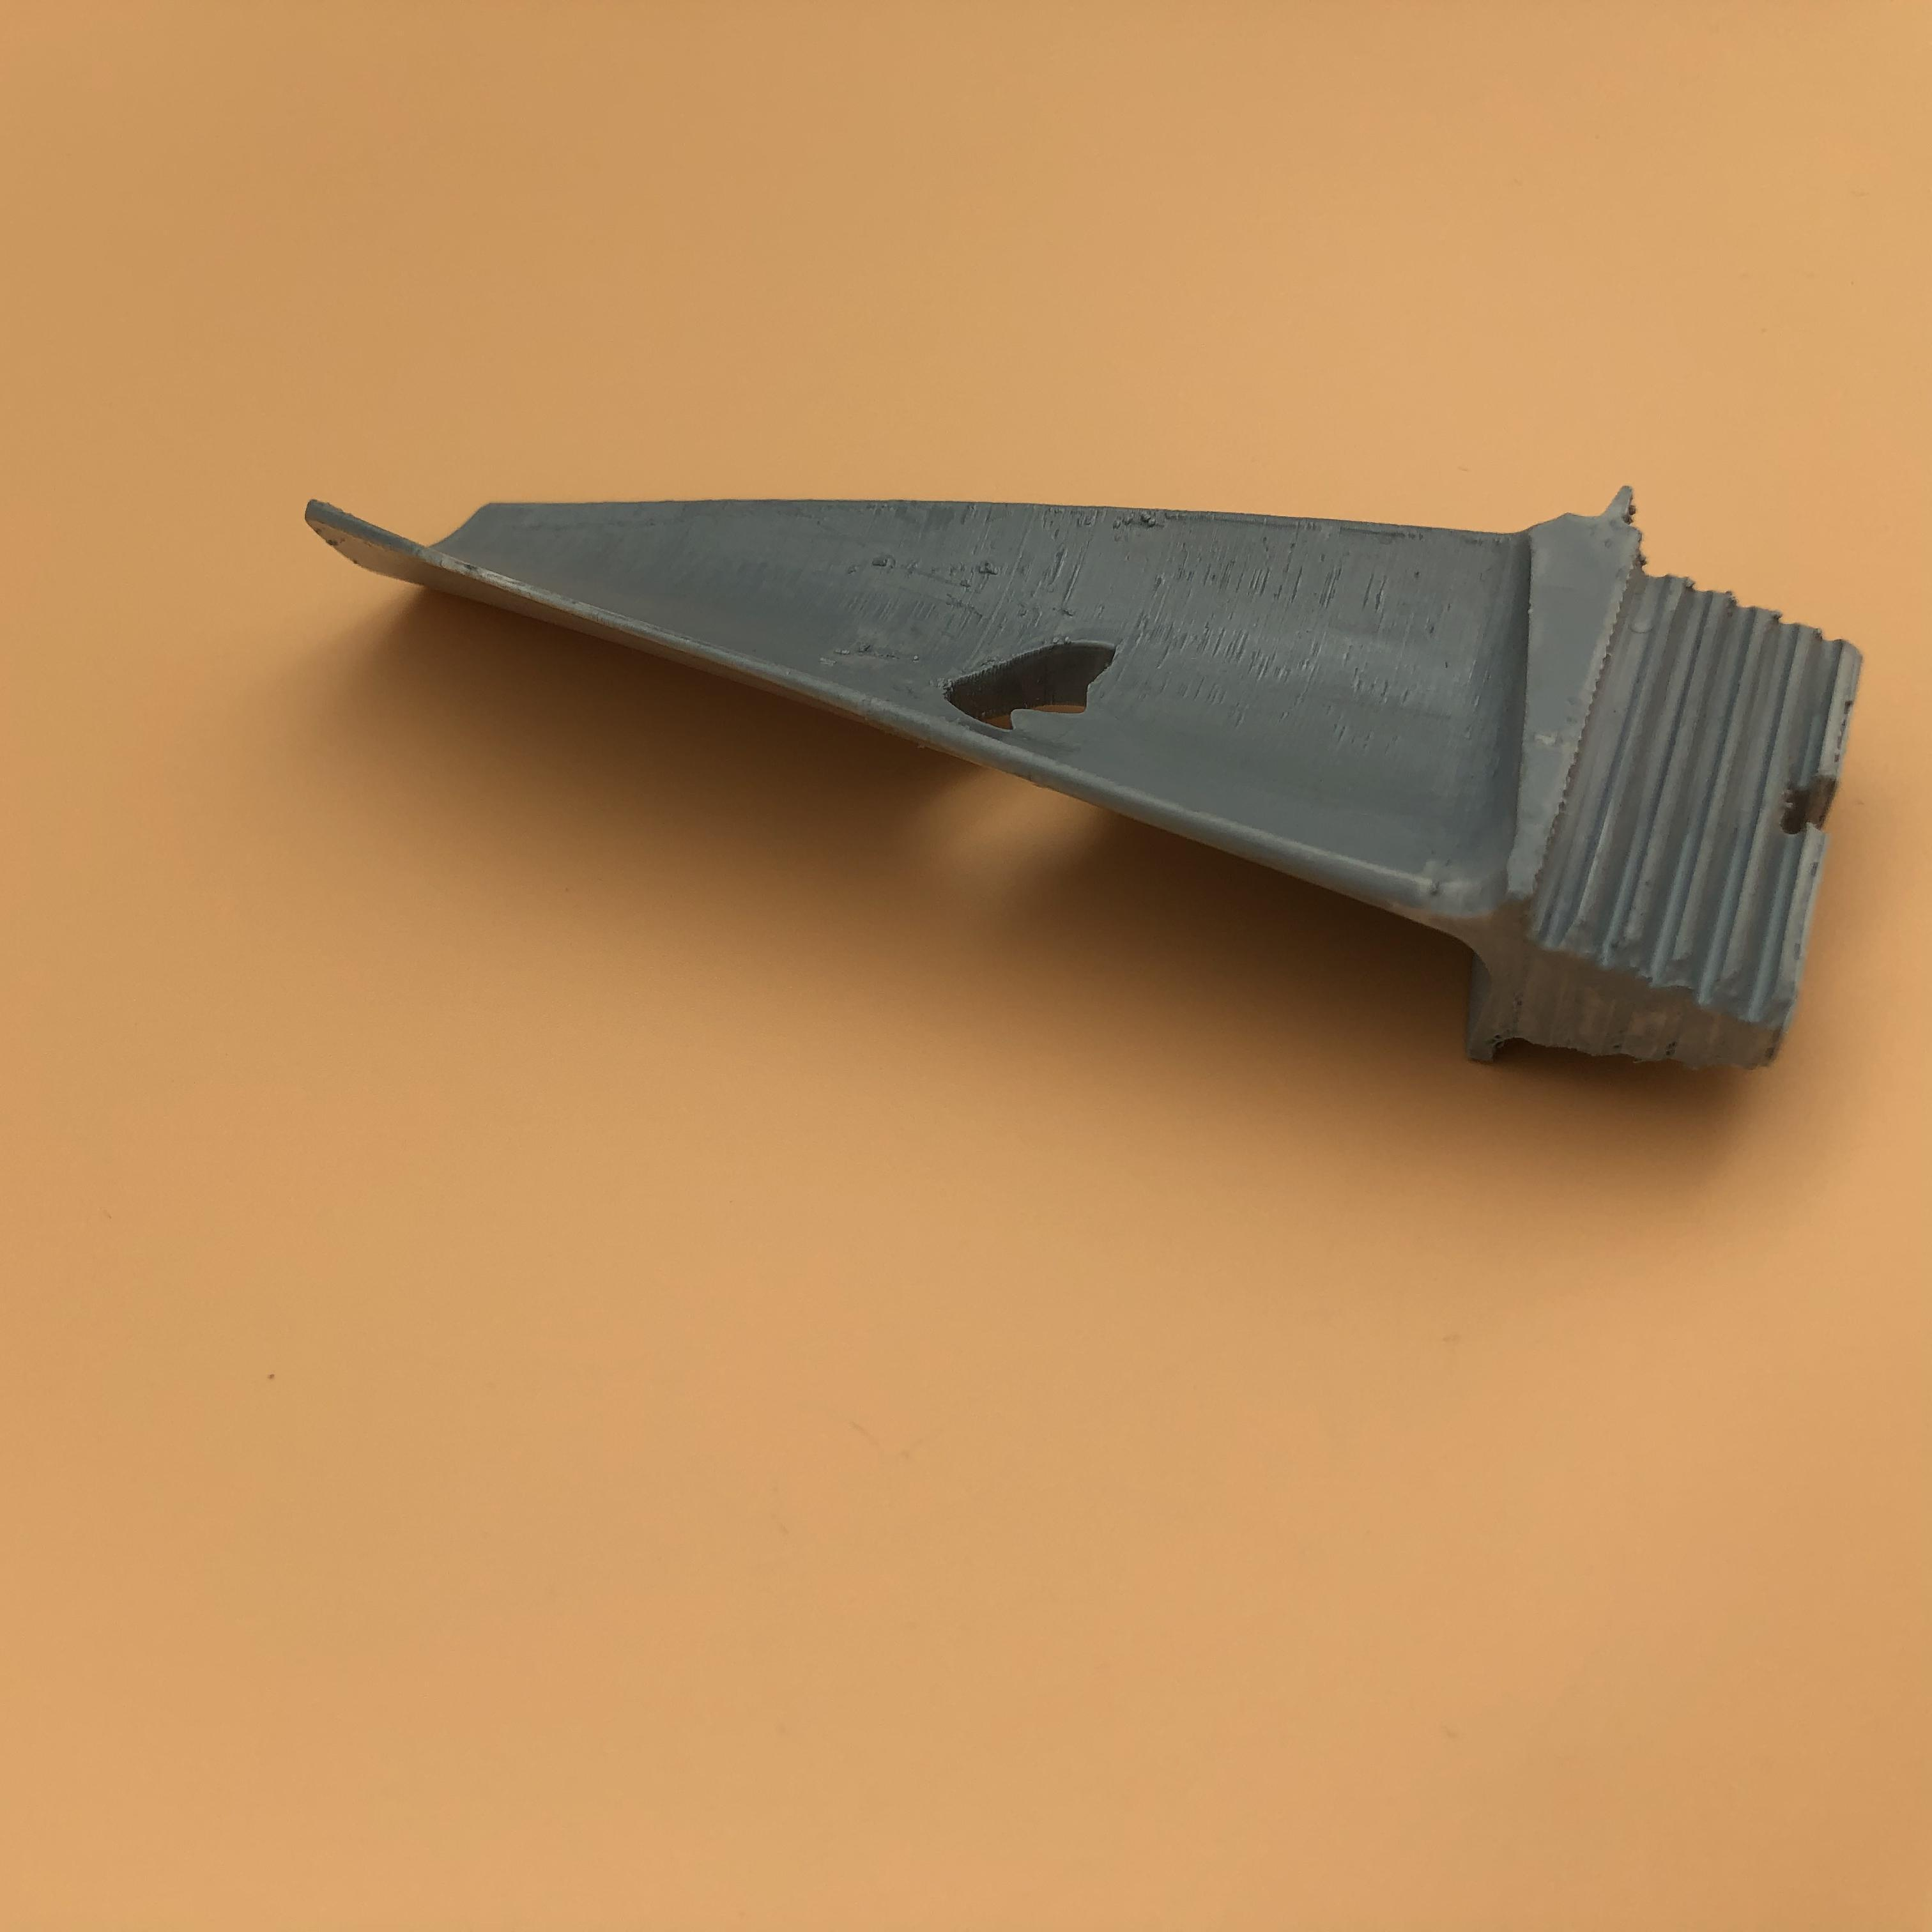breakdown: (943, 616, 1141, 734)
